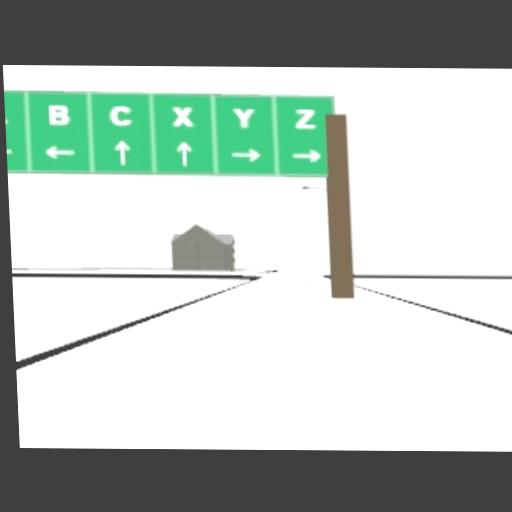B: (47, 103, 69, 123)
C: (110, 104, 130, 124)
Left: (44, 143, 75, 158), (7, 148, 12, 153)
Right: (289, 147, 322, 161), (230, 147, 262, 161)
Straight: (113, 138, 129, 163), (176, 139, 192, 163)
X: (171, 104, 193, 124)
Y: (232, 107, 255, 127)
Z: (293, 107, 316, 127)
